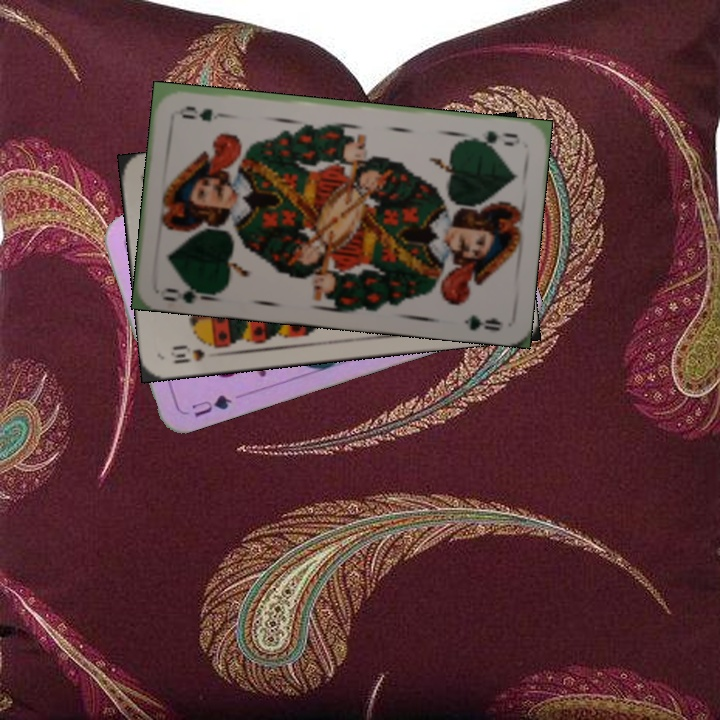GO: (157, 278, 217, 306), (464, 127, 520, 149)
GU: (188, 390, 235, 419)
S10: (166, 342, 207, 366)
